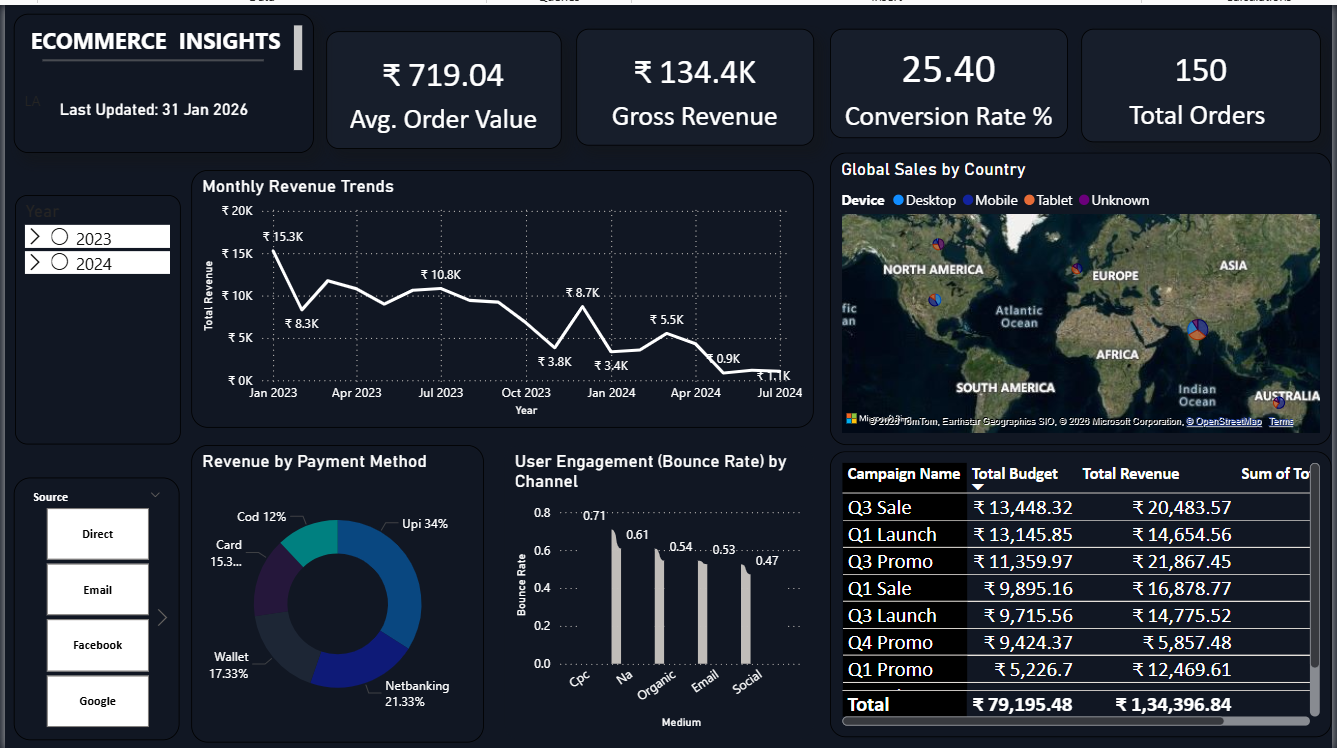

Layout of this report page (visuals, bound fields, positions):
{"tool":"powerbi","page":{"name":"Dashboard","canvas":[1280,720],"ordinal":0},"visuals":[{"type":"card","fields":{"Values":["Count(Orders.Order ID)"]},"box":[1038.8,23.1,230.8,109.6],"z":0},{"type":"card","fields":{"Values":["Sessions (2).Total Revenue"]},"box":[551.1,23.1,229.4,112.5],"z":1000},{"type":"lineChart","title":"Monthly Revenue Trends","fields":{"Category":["Sessions (2).Start Session.Variation.Date Hierarchy.Year","Sessions (2).Start Session.Variation.Date Hierarchy.Month"],"Y":["Sessions (2).Total Revenue"]},"box":[179.8,159.3,600.8,248.5],"z":2000},{"type":"map","title":"Global Sales by Country","fields":{"Category":["Sessions (2).Country"],"Series":["Sessions (2).Device"],"Size":["CountNonNull(Orders.User ID)"]},"box":[796.3,142.4,483.8,282.3],"z":3000},{"type":"donutChart","title":"Revenue by Payment Method","fields":{"Category":["Orders.Payment Method"],"Y":["Count(Orders.Order ID)"]},"box":[179.8,424.7,282.3,287.1],"z":4000},{"type":"columnChart","title":"User Engagement (Bounce Rate) by Channel","fields":{"Category":["Sessions (2).Medium"],"Y":["Sessions (2).Bounce Rate"]},"box":[481.4,424.7,299.2,284.7],"z":5000},{"type":"tableEx","fields":{"Values":["Campaigns.Campaign Name","Campaigns.Total Budget","Sessions (2).Total Revenue","Sum(Campaigns.Total No. of Days)"]},"box":[796.3,430.7,483.8,276.3],"z":6000},{"type":"slicer","fields":{"Values":["Sessions (2).Source"]},"box":[8.7,455.9,160.1,253.9],"z":7000},{"type":"card","fields":{"Values":["Avg(Orders.Order Value)"]},"box":[310.1,25.3,226.8,113.4],"z":8000},{"type":"listSlicer","fields":{"Values":["Orders.Order Date.Variation.Date Hierarchy.Year","Orders.Order Date.Variation.Date Hierarchy.Quarter","Orders.Order Date.Variation.Date Hierarchy.Month"]},"box":[10.1,183.2,160.1,240.9],"z":9000},{"type":"textbox","box":[8.7,8.7,290,134.2],"z":10000},{"type":"card","fields":{"Values":["Sessions (2).Conversion Rate"]},"box":[796.4,23.1,229.4,105.3],"z":11000},{"type":"shape","box":[36.1,0,213.5,106.8],"z":12000},{"type":"card","fields":{"Values":["Campaigns.Dashboard Status"]},"box":[39,69.3,210.6,66.4],"z":13000}]}

Visuals, with their boxes in screenshot pixels (x1, y1, x2, y2), scaled from the page's 1280x720 canvas onto the 1337x748 screenshot:
card - Count(Orders.Order ID): left=1085, top=24, right=1326, bottom=138
card - Sessions (2).Total Revenue: left=576, top=24, right=815, bottom=141
"Monthly Revenue Trends" lineChart: left=188, top=165, right=815, bottom=424
"Global Sales by Country" map: left=832, top=148, right=1336, bottom=441
"Revenue by Payment Method" donutChart: left=188, top=441, right=483, bottom=739
"User Engagement (Bounce Rate) by Channel" columnChart: left=503, top=441, right=815, bottom=737
tableEx - Campaigns.Campaign Name x Campaigns.Total Budget: left=832, top=447, right=1336, bottom=734
slicer - Sessions (2).Source: left=9, top=474, right=176, bottom=737
card - Avg(Orders.Order Value): left=324, top=26, right=561, bottom=144
listSlicer - Orders.Order Date.Variation.Date Hierarchy.Year x Orders.Order Date.Variation.Date Hierarchy.Quarter: left=11, top=190, right=178, bottom=441
textbox: left=9, top=9, right=312, bottom=148
card - Sessions (2).Conversion Rate: left=832, top=24, right=1071, bottom=133
shape: left=38, top=0, right=261, bottom=111
card - Campaigns.Dashboard Status: left=41, top=72, right=261, bottom=141
